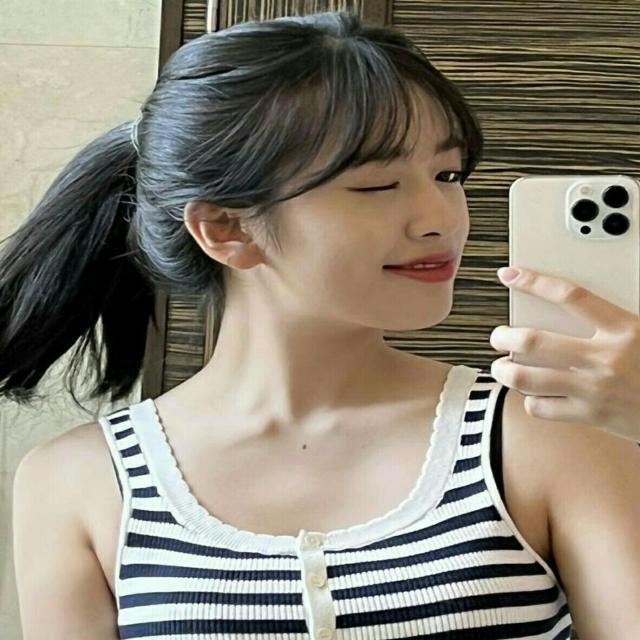phone: (510, 177, 640, 396)
